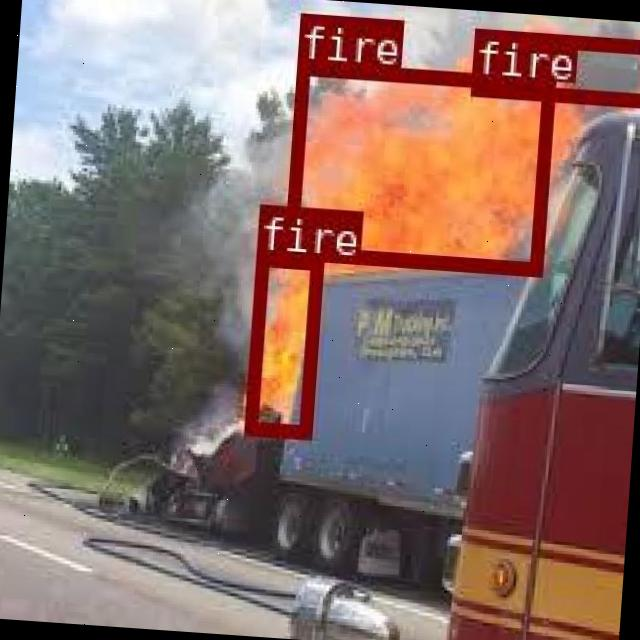fire: (282, 60, 552, 272), (242, 250, 320, 434), (469, 26, 640, 104)
